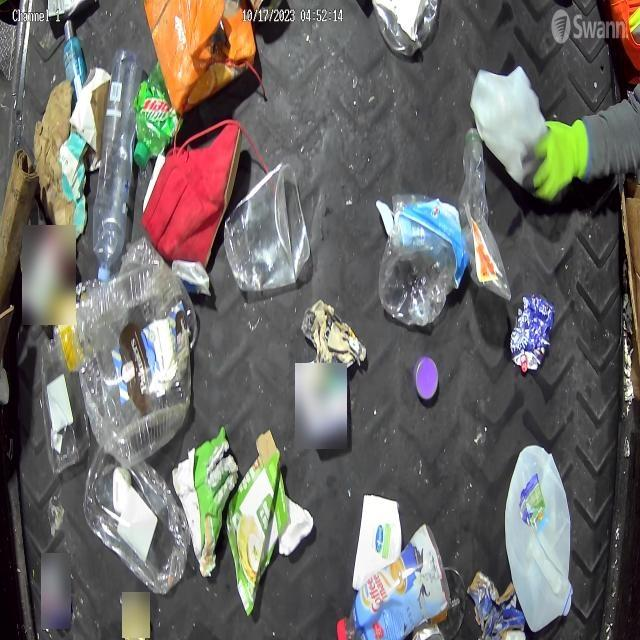milk_jug: (505, 442, 575, 632), (471, 65, 548, 198)
plastic_bottle: (91, 48, 142, 281), (511, 294, 556, 374)
